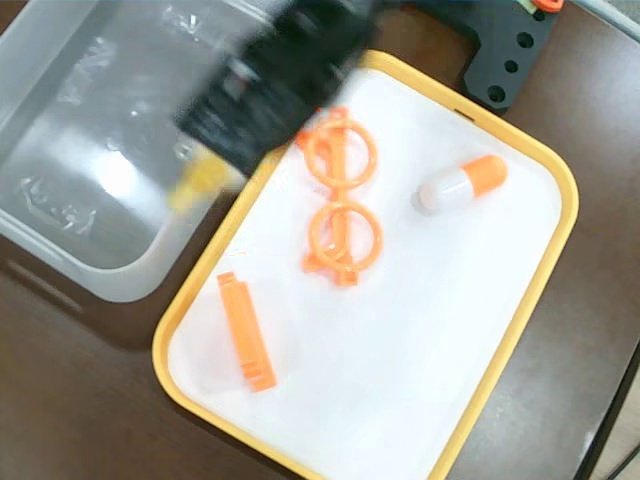pill: (417, 155, 509, 212)
